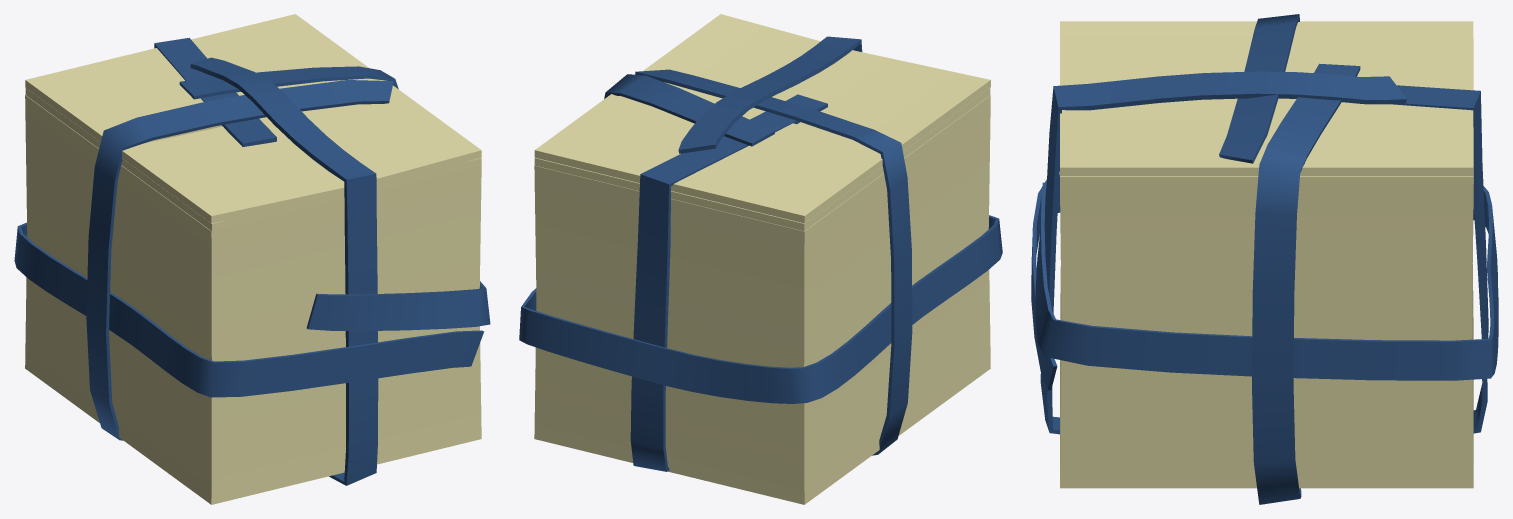
The model's file is PR_BoxTaped.fbx.
3 views of the same model, side by side, from view 1: azimuth 30°, elevation 25°; view 2: azimuth 150°, elevation 25°; view 3: azimuth 270°, elevation 25° (orthographic). The views are drawn at different scales.
Parts seen in each view (by area): view 1: PR_Box, BezierCurve.001, PR_BoxFlap4, PR_BoxFlap3, PR_BoxFlap1, PR_BoxFlap2; view 2: PR_Box, BezierCurve.001, PR_BoxFlap3, PR_BoxFlap4, PR_BoxFlap1, PR_BoxFlap2; view 3: PR_Box, BezierCurve.001, PR_BoxFlap4, PR_BoxFlap3, PR_BoxFlap2.
Part boxes in pixels (left/top/right/bottom): PR_Box: left=25, top=95, right=481, bottom=504; BezierCurve.001: left=14, top=37, right=490, bottom=485; PR_BoxFlap4: left=122, top=85, right=481, bottom=223; PR_BoxFlap3: left=25, top=14, right=386, bottom=142; PR_BoxFlap1: left=25, top=88, right=344, bottom=231; PR_BoxFlap2: left=376, top=158, right=481, bottom=190; PR_Box: left=534, top=95, right=990, bottom=504; BezierCurve.001: left=519, top=36, right=1002, bottom=471; PR_BoxFlap3: left=534, top=94, right=882, bottom=223; PR_BoxFlap4: left=643, top=14, right=990, bottom=151; PR_BoxFlap1: left=671, top=88, right=990, bottom=231; PR_BoxFlap2: left=534, top=157, right=639, bottom=190; PR_Box: left=1060, top=38, right=1473, bottom=488; BezierCurve.001: left=1031, top=14, right=1498, bottom=504; PR_BoxFlap4: left=1060, top=21, right=1264, bottom=175; PR_BoxFlap3: left=1268, top=21, right=1473, bottom=175; PR_BoxFlap2: left=1060, top=132, right=1473, bottom=184.
Bounding box in the file's own units: 30.09 × 30.42 × 35.96.
